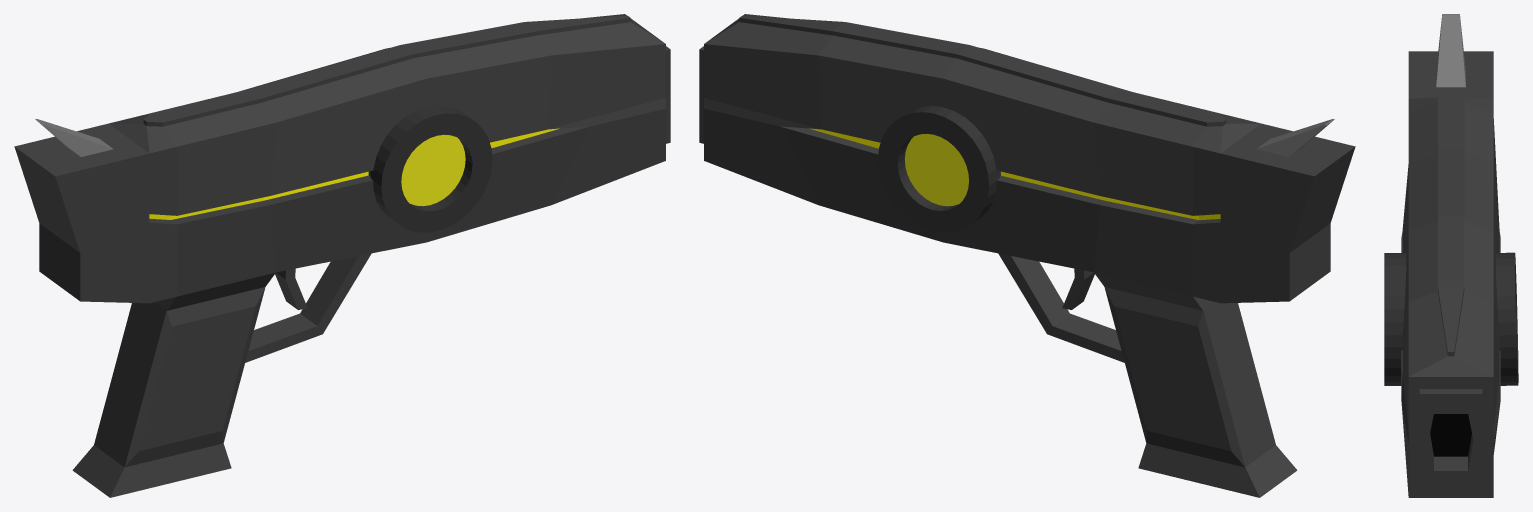
The model's file is AstralFalcon.fbx.
3 renders of one model, left to right at view 1: azimuth 30°, elevation 25°; view 2: azimuth 150°, elevation 25°; view 3: azimuth 270°, elevation 25°, orthographic. The views are drawn at different scales.
Parts seen in each view (by area): view 1: Cube, Cylinder.002, Cube.001; view 2: Cube, Cylinder.001, Cube.001; view 3: Cube, Cylinder.002, Cylinder.001, Cube.001.
Boxes of the visible parts, x1,y1,x2,y2 form: Cube: (14, 14, 670, 497); Cylinder.002: (370, 105, 492, 232); Cube.001: (35, 119, 113, 156); Cube: (699, 14, 1355, 497); Cylinder.001: (878, 105, 999, 232); Cube.001: (1256, 119, 1334, 156); Cube: (1401, 51, 1500, 497); Cylinder.002: (1384, 253, 1406, 385); Cylinder.001: (1495, 252, 1518, 385); Cube.001: (1436, 14, 1465, 87).
Size of the model in its own units: 544 by 314 by 98.26.
